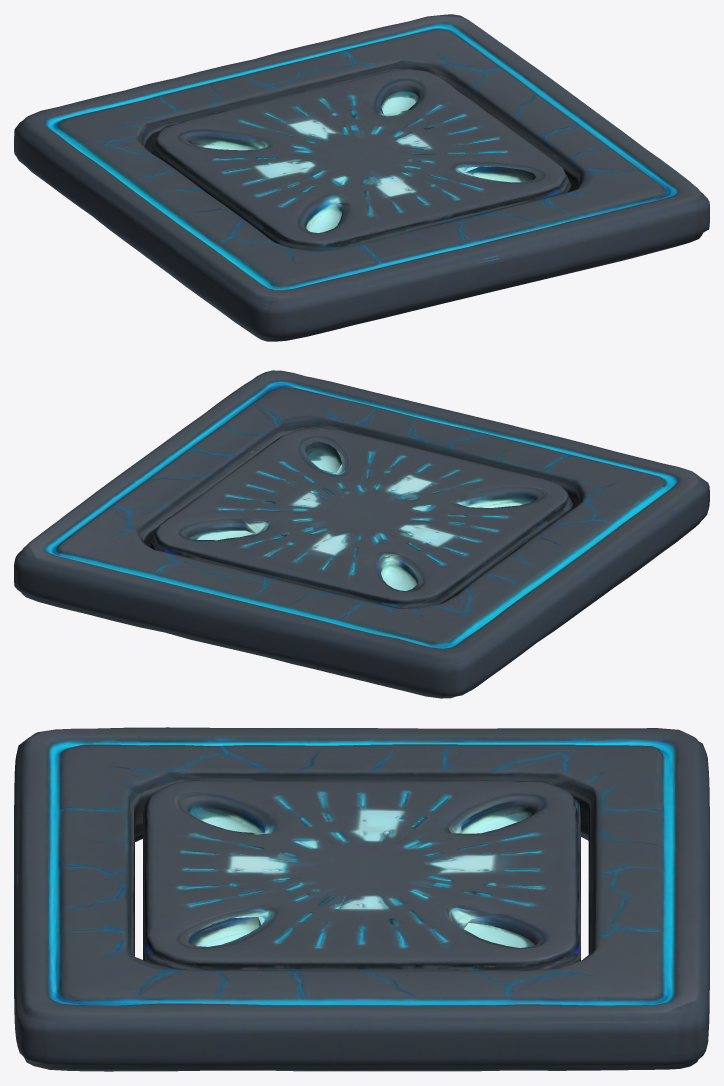
The model's file is Neon_Spike_Floor_Tile_0926200226_texture.fbx.
3 renders of one model, top to bottom at view 1: azimuth 30°, elevation 25°; view 2: azimuth 150°, elevation 25°; view 3: azimuth 270°, elevation 25°, orthographic. The views are drawn at different scales.
Parts seen in each view (by area): view 1: Mesh0; view 2: Mesh0; view 3: Mesh0.
Part boxes in pixels (x1,y1,x2,y2): Mesh0: (14, 14, 709, 341); Mesh0: (14, 370, 709, 698); Mesh0: (14, 727, 709, 1071).
Size of the model in its own units: 191 by 18.1 by 191.
Materials: 1 (1 with a texture image).
